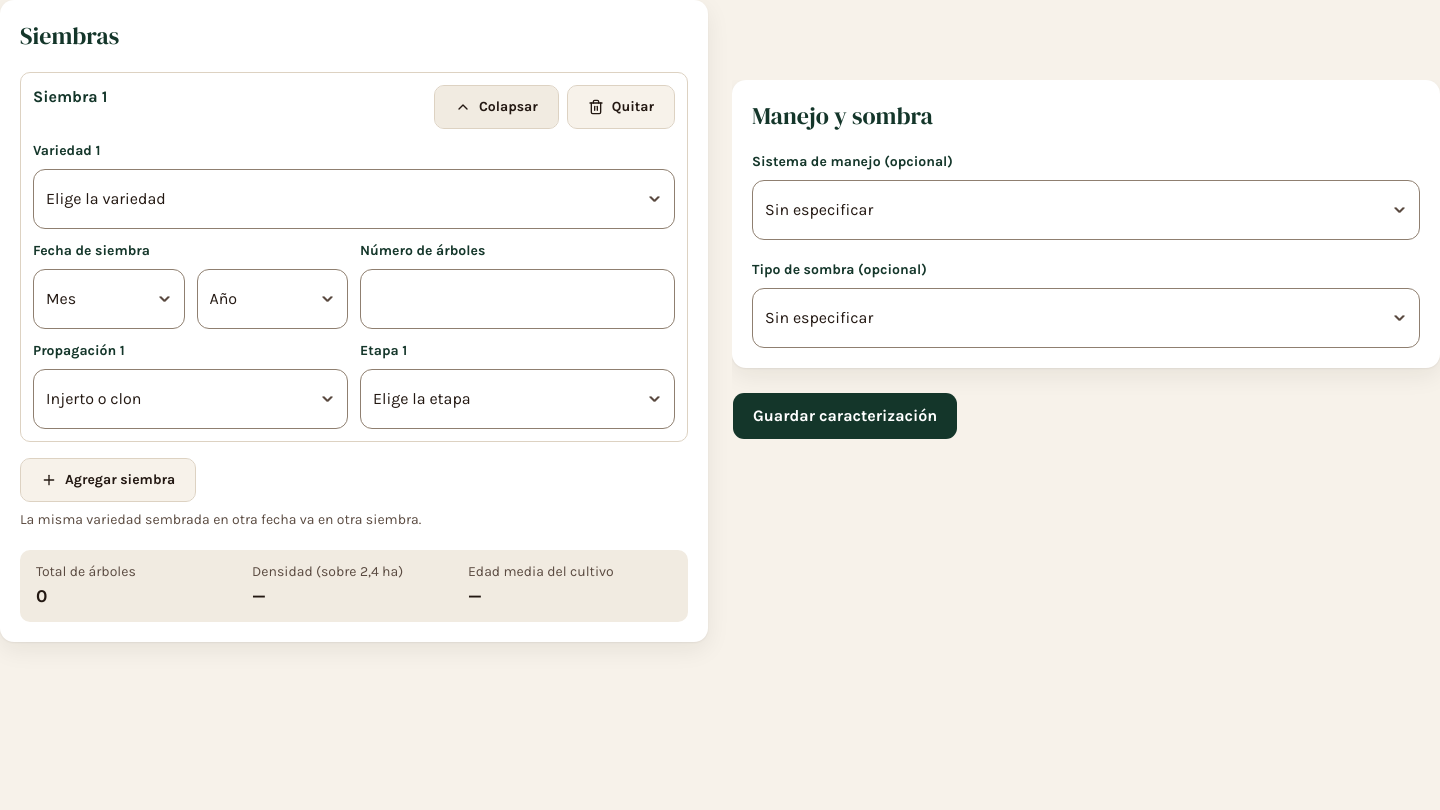
Scenario: CharacterizationForm › stops without a variety and marks the field
Click the button "Guardar caracterización": (845, 416) [732, 392, 958, 440]
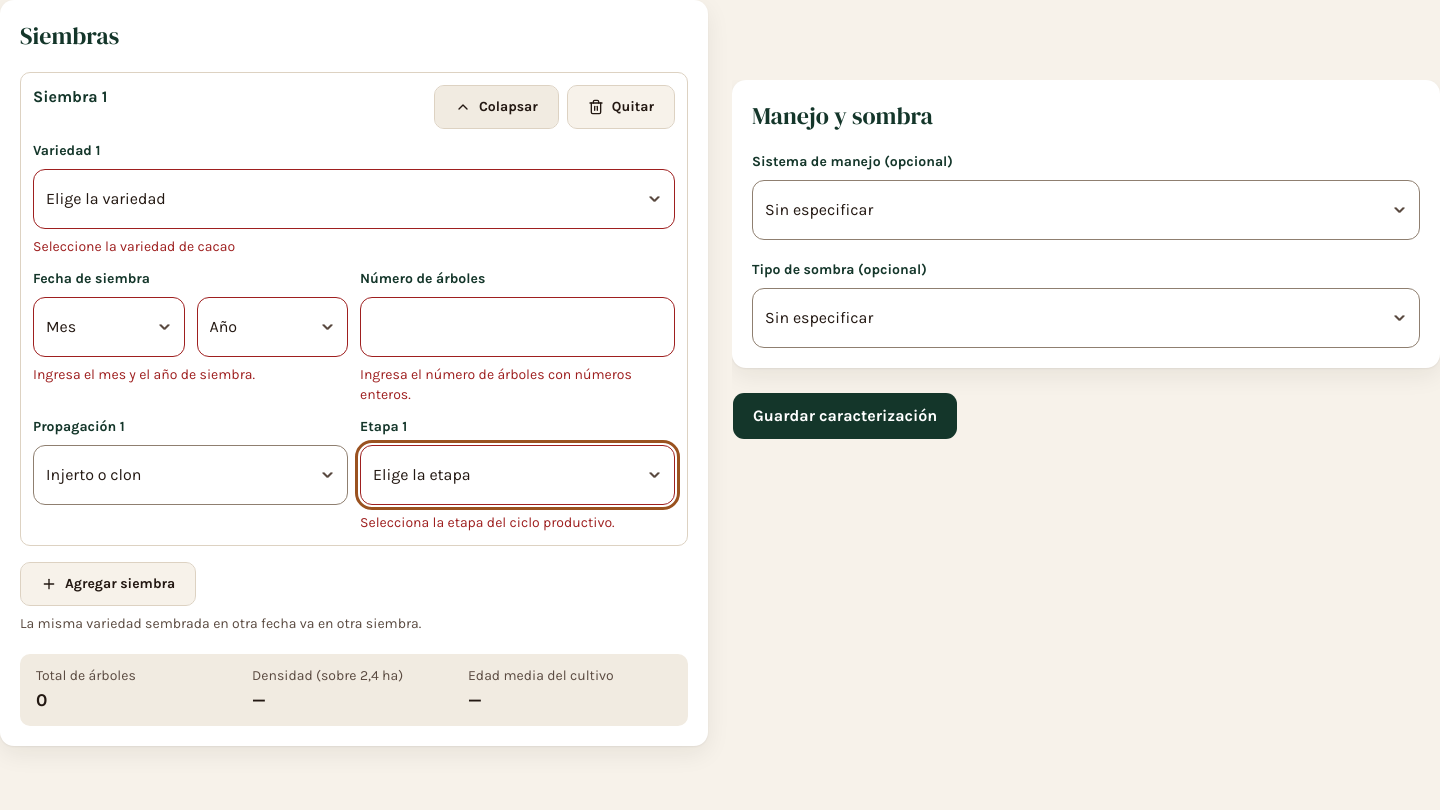
Now the text "Selecciona la etapa del ciclo productivo." is shown, box [360, 514, 615, 531]
